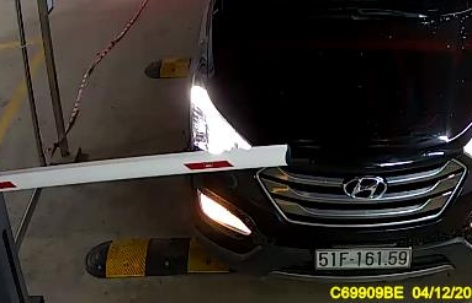plate: (315, 242, 411, 271)
